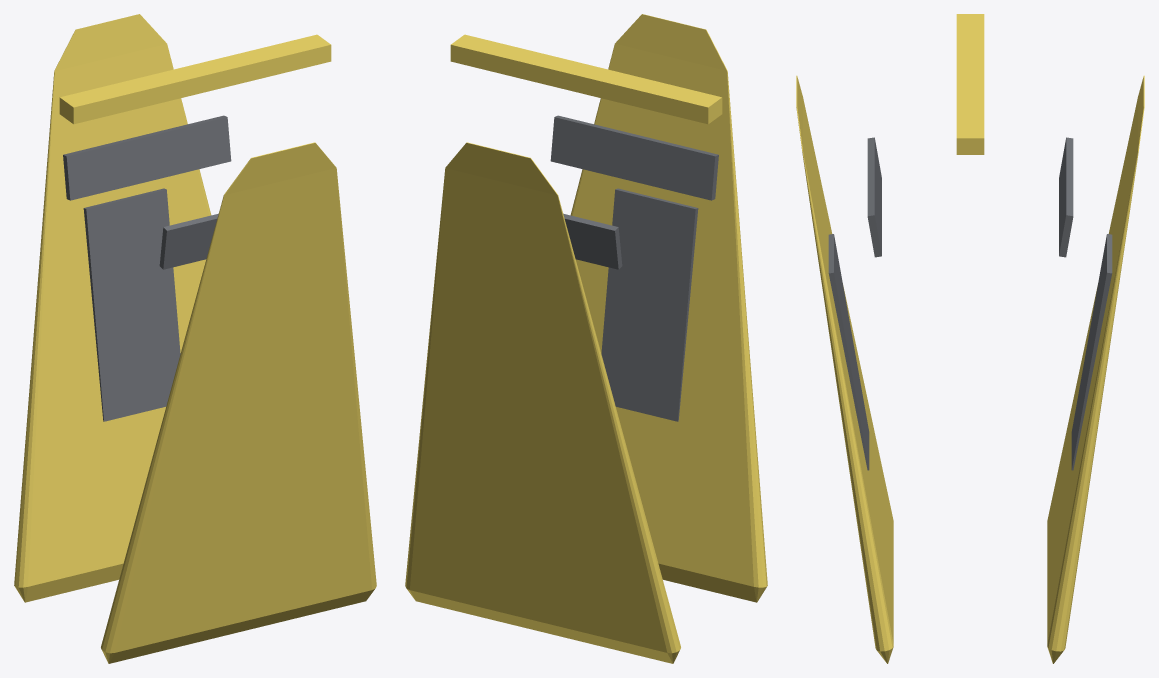
Rendered from community-sports-hall-and-changing-rooms-wet-floor-sig-227a38c3__35114.glb.
3 views of the same model, side by side, from view 1: azimuth 30°, elevation 25°; view 2: azimuth 150°, elevation 25°; view 3: azimuth 270°, elevation 25° (orthographic).
Visible parts, largest first — view 1: wet-floor-sign; view 2: wet-floor-sign; view 3: wet-floor-sign.
Boxes of the visible parts, x1,y1,x2,y2 form: wet-floor-sign: [14, 14, 376, 663]; wet-floor-sign: [405, 14, 767, 663]; wet-floor-sign: [796, 14, 1144, 663].
Size of the model in its own units: 0.34 by 0.6301 by 0.3785.
